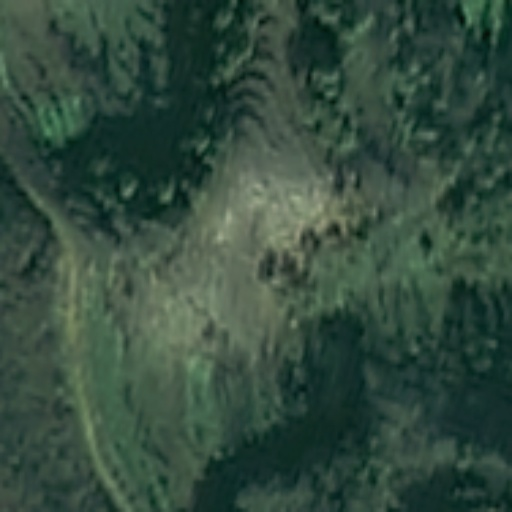landslide: (200, 161, 361, 265)
